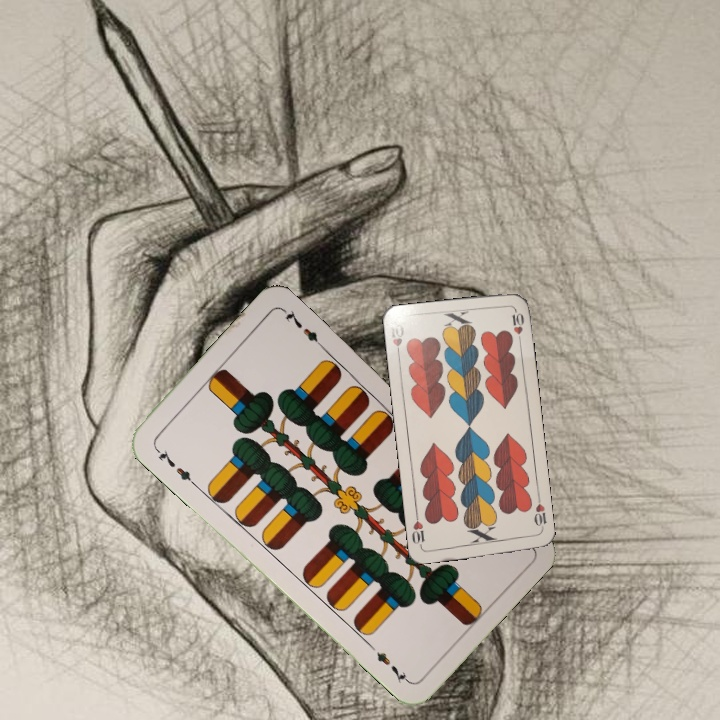E7: (150, 443, 198, 488)
H10: (386, 320, 407, 360), (530, 494, 549, 534)
